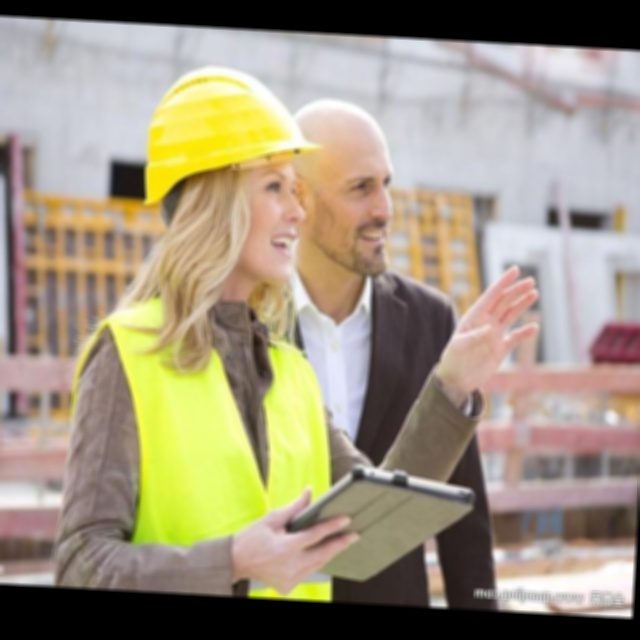Con_Casco: (134, 62, 313, 289)
Con_Chaleco: (73, 304, 342, 594)
